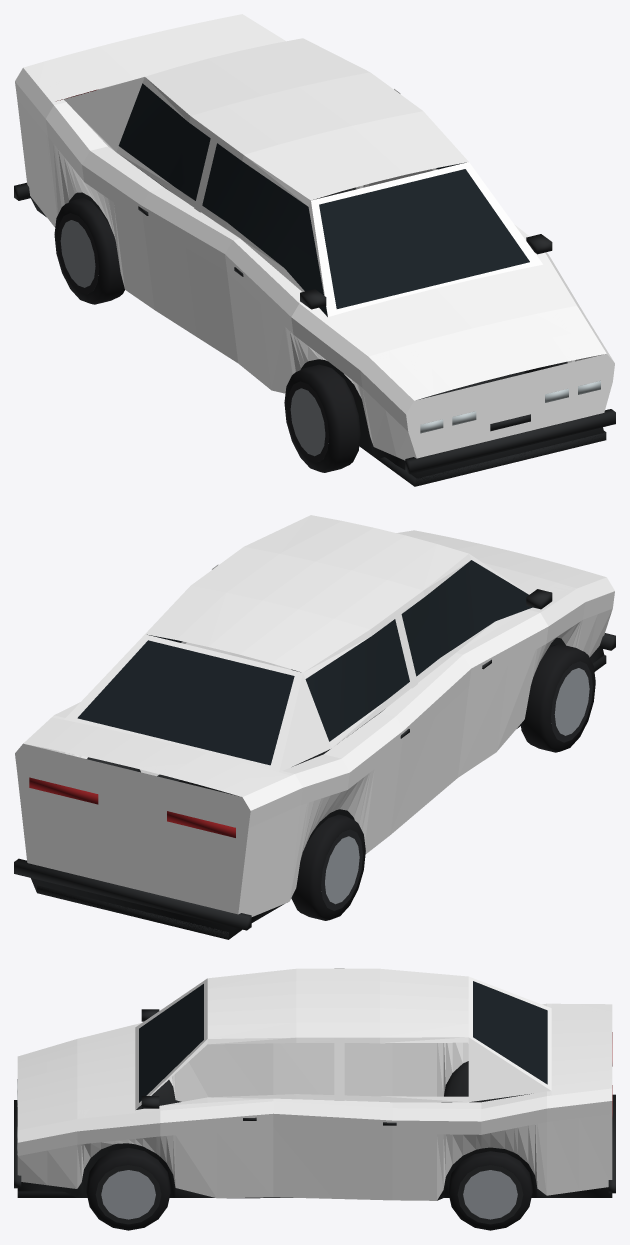
File: norrvik_vigia.glb
3 renders of one model, top to bottom at view 1: azimuth 30°, elevation 25°; view 2: azimuth 150°, elevation 25°; view 3: azimuth 270°, elevation 25°, orthographic. The views are drawn at different scales.
Visible parts, largest first — view 1: Body_Paint, Body_Details, Mount_FrontLeft_Wheel_Details, Mount_RearLeft_Wheel_Details; view 2: Body_Paint, Body_Details, Mount_FrontLeft_Wheel_Details, Mount_RearLeft_Wheel_Details; view 3: Body_Paint, Body_Details, Mount_FrontRight_Wheel_Details, Mount_RearRight_Wheel_Details.
Boxes of the visible parts, x1=… form: Body_Paint: x1=15, y1=14, x2=614, y2=460; Body_Details: x1=14, y1=83, x2=615, y2=486; Mount_FrontLeft_Wheel_Details: x1=284, y1=364, x2=360, y2=472; Mount_RearLeft_Wheel_Details: x1=54, y1=198, x2=124, y2=304; Body_Paint: x1=15, y1=515, x2=614, y2=916; Body_Details: x1=14, y1=560, x2=615, y2=939; Mount_FrontLeft_Wheel_Details: x1=520, y1=644, x2=595, y2=752; Mount_RearLeft_Wheel_Details: x1=291, y1=814, x2=365, y2=920; Body_Paint: x1=17, y1=968, x2=612, y2=1200; Body_Details: x1=14, y1=981, x2=615, y2=1200; Mount_FrontRight_Wheel_Details: x1=86, y1=1147, x2=170, y2=1230; Mount_RearRight_Wheel_Details: x1=448, y1=1151, x2=532, y2=1230.
Bounding box in the file's own units: 1.79 × 1.47 × 4.43.
2 materials, 1 textured.
